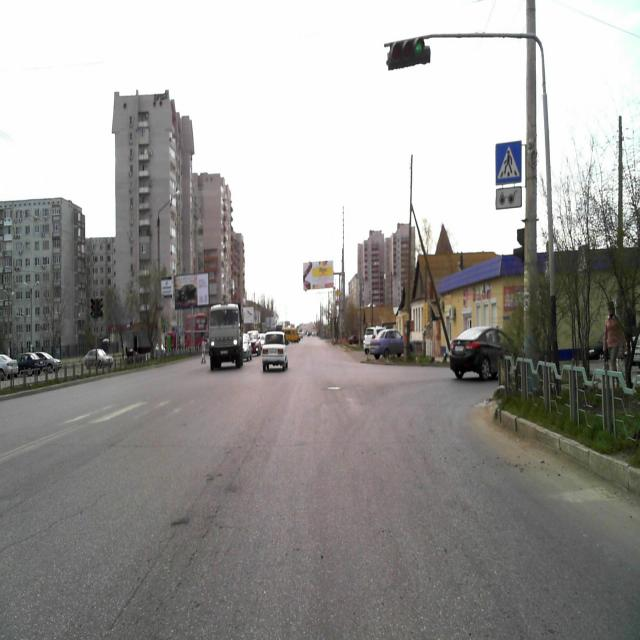road sign: (496, 141, 522, 185), (495, 185, 522, 210)
